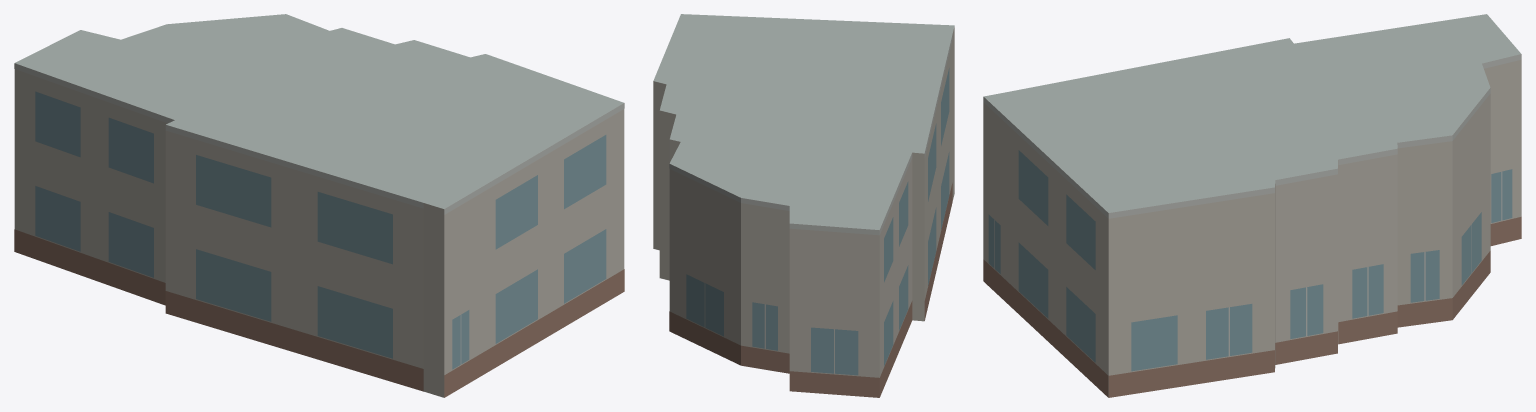
The model's file is survey-upis-32693927.glb.
3 renders of one model, left to right at view 1: azimuth 30°, elevation 25°; view 2: azimuth 150°, elevation 25°; view 3: azimuth 270°, elevation 25°, orthographic. The views are drawn at different scales.
Parts seen in each view (by area): view 1: survey-upis-32693927.tmp; view 2: survey-upis-32693927.tmp; view 3: survey-upis-32693927.tmp.
Boxes of the visible parts, x1,y1,x2,y2 form: survey-upis-32693927.tmp: (14,14,624,397); survey-upis-32693927.tmp: (653,14,954,397); survey-upis-32693927.tmp: (983,14,1521,397).
Size of the model in its own units: 18.27 by 7.9 by 20.86.
